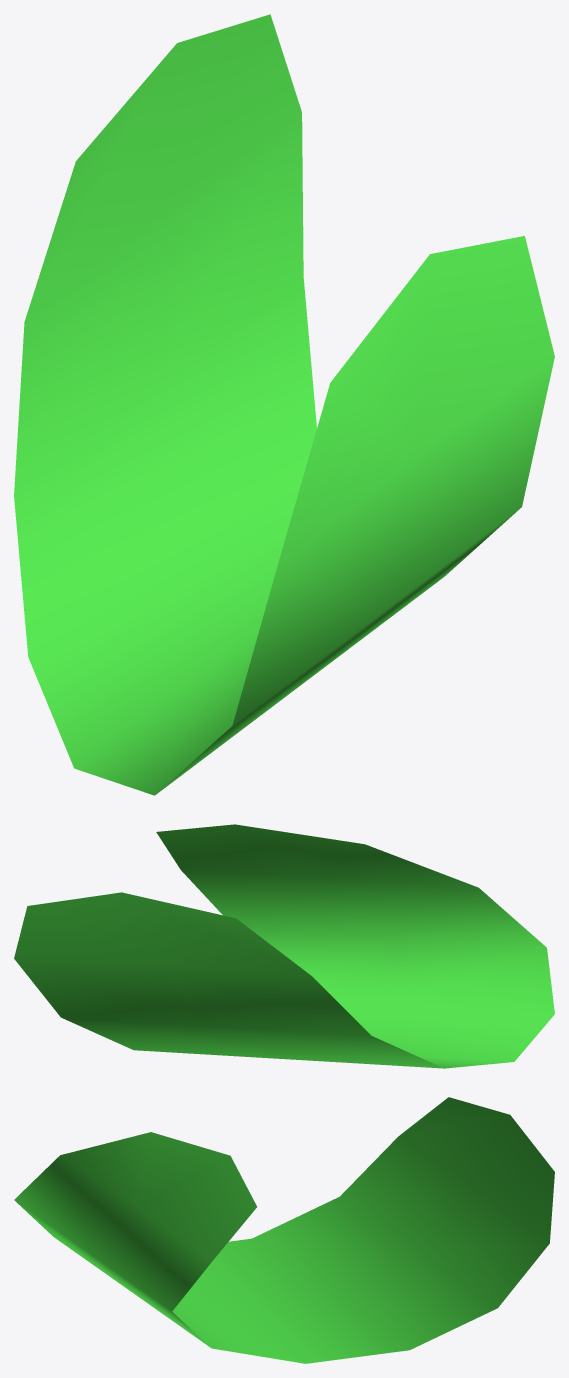
The model's file is Confetti.001.fbx.
3 renders of one model, top to bottom at view 1: azimuth 30°, elevation 25°; view 2: azimuth 150°, elevation 25°; view 3: azimuth 270°, elevation 25°, orthographic. The views are drawn at different scales.
Parts seen in each view (by area): view 1: Confetti.001; view 2: Confetti.001; view 3: Confetti.001.
Boxes of the visible parts, x1,y1,x2,y2 form: Confetti.001: [14, 14, 554, 795]; Confetti.001: [14, 824, 554, 1068]; Confetti.001: [14, 1097, 554, 1363].
Size of the model in its own units: 0.9349 by 0.6709 by 1.28.
